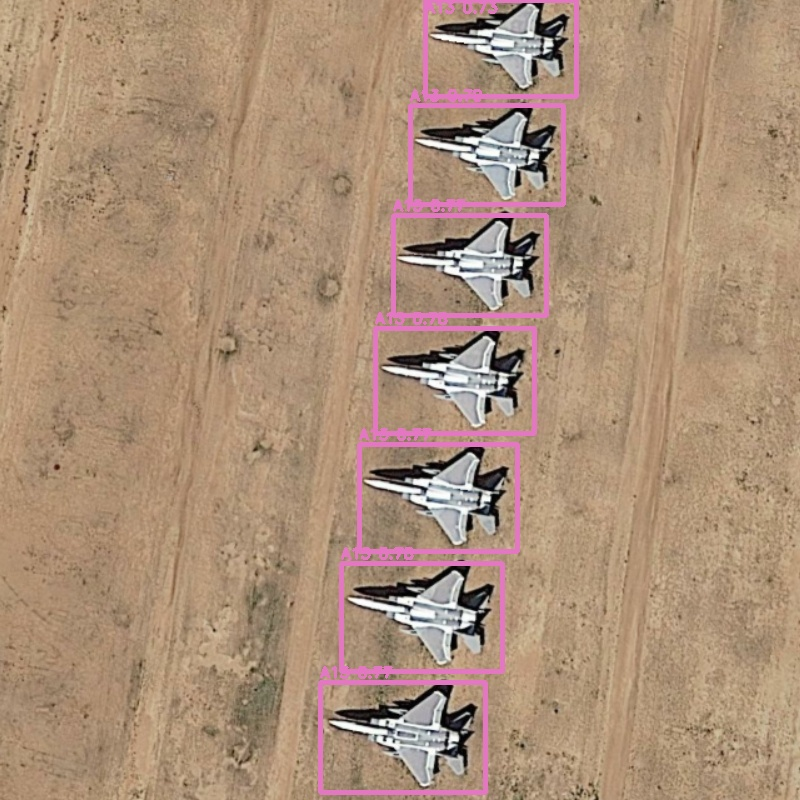A13: (320, 682, 485, 792), (341, 563, 502, 671), (359, 444, 517, 551), (375, 328, 534, 433), (393, 215, 546, 315), (410, 105, 563, 204), (425, 0, 576, 96)
